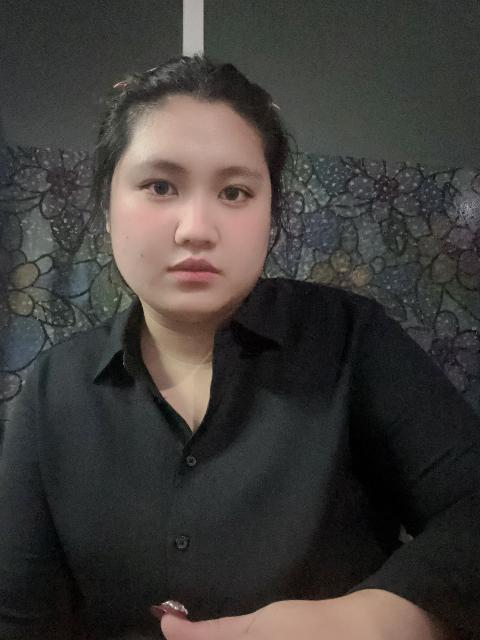fokus: (110, 61, 277, 317)
